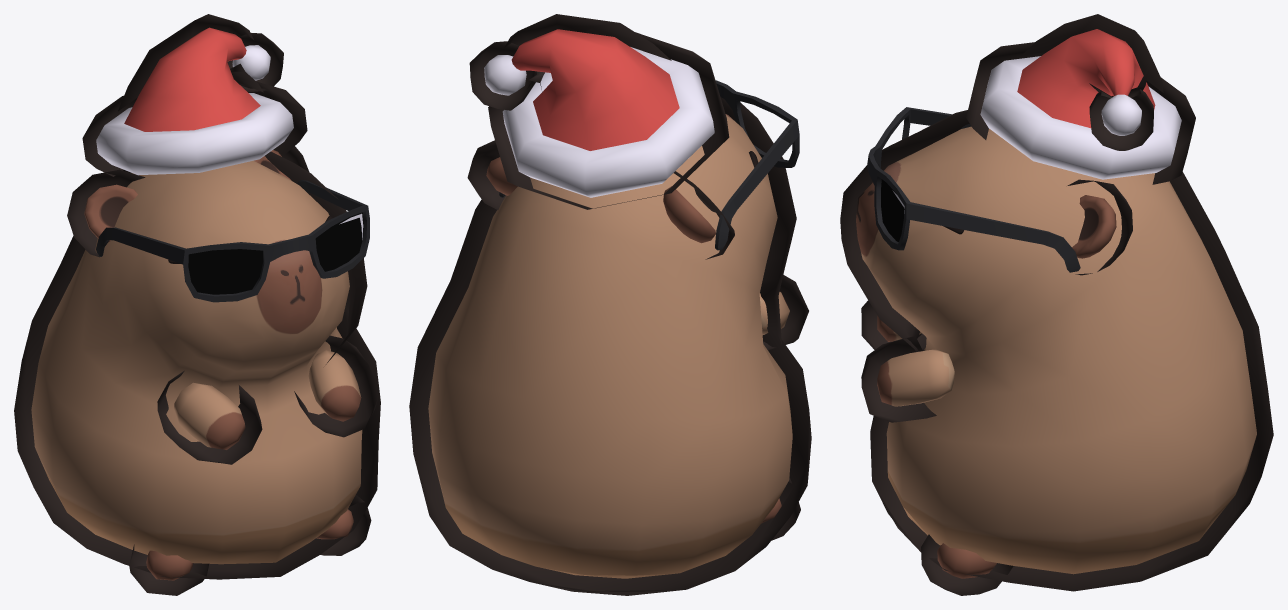
Rendered from capy3.glb.
3 views of the same model, side by side, from view 1: azimuth 30°, elevation 25°; view 2: azimuth 150°, elevation 25°; view 3: azimuth 270°, elevation 25° (orthographic). The views are drawn at different scales.
Visible parts, largest first — view 1: Cube, Circle, Cube.004, Cube.012, Plane.001; view 2: Cube, Circle, Cube.004, Plane.001, Cube.012; view 3: Cube, Circle, Cube.004, Cube.012, Plane.001.
Boxes of the visible parts, left/top/right/bottom form: Cube: left=31, top=150, right=362, bottom=580; Circle: left=82, top=14, right=307, bottom=176; Cube.004: left=14, top=146, right=380, bottom=595; Cube.012: left=157, top=335, right=378, bottom=464; Plane.001: left=96, top=180, right=369, bottom=302; Cube: left=428, top=114, right=792, bottom=578; Circle: left=469, top=14, right=729, bottom=209; Cube.004: left=409, top=97, right=811, bottom=595; Plane.001: left=499, top=80, right=799, bottom=250; Cube.012: left=759, top=275, right=808, bottom=350; Cube: left=856, top=126, right=1256, bottom=578; Circle: left=966, top=14, right=1195, bottom=184; Cube.004: left=840, top=110, right=1273, bottom=595; Cube.012: left=861, top=300, right=954, bottom=422; Plane.001: left=867, top=107, right=1080, bottom=272.
Size of the model in its own units: 3.82 by 5.86 by 4.17.
1 material, 1 textured.
